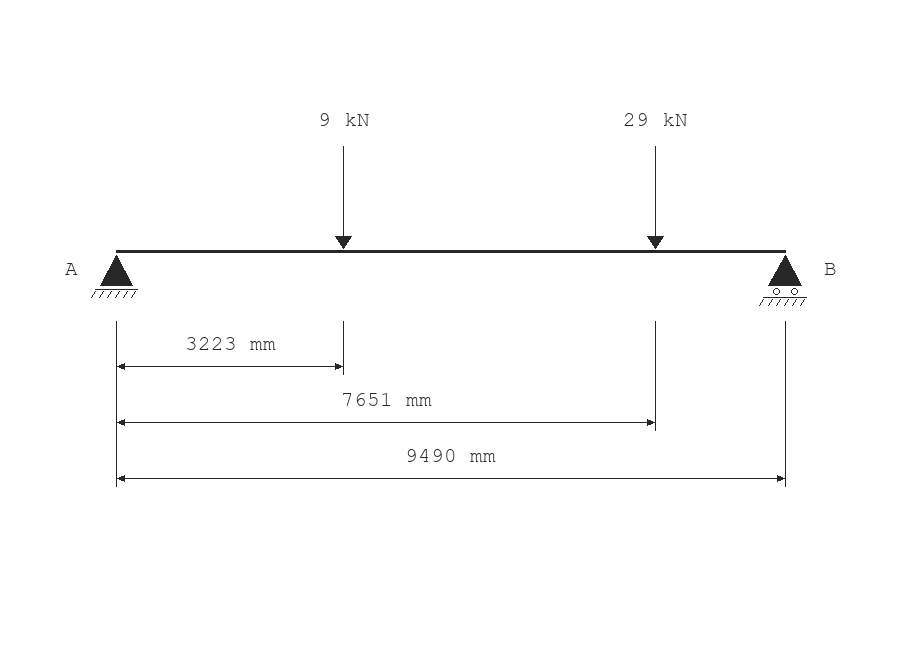pin_support: (91, 255, 138, 298)
point_load: (335, 146, 352, 249), (647, 146, 664, 249)
roller_support: (759, 255, 807, 306)
